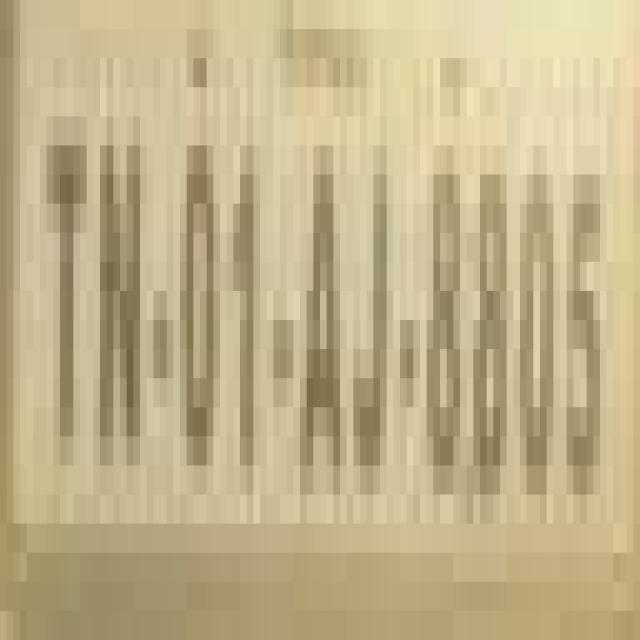license_plate: (0, 29, 607, 611)
